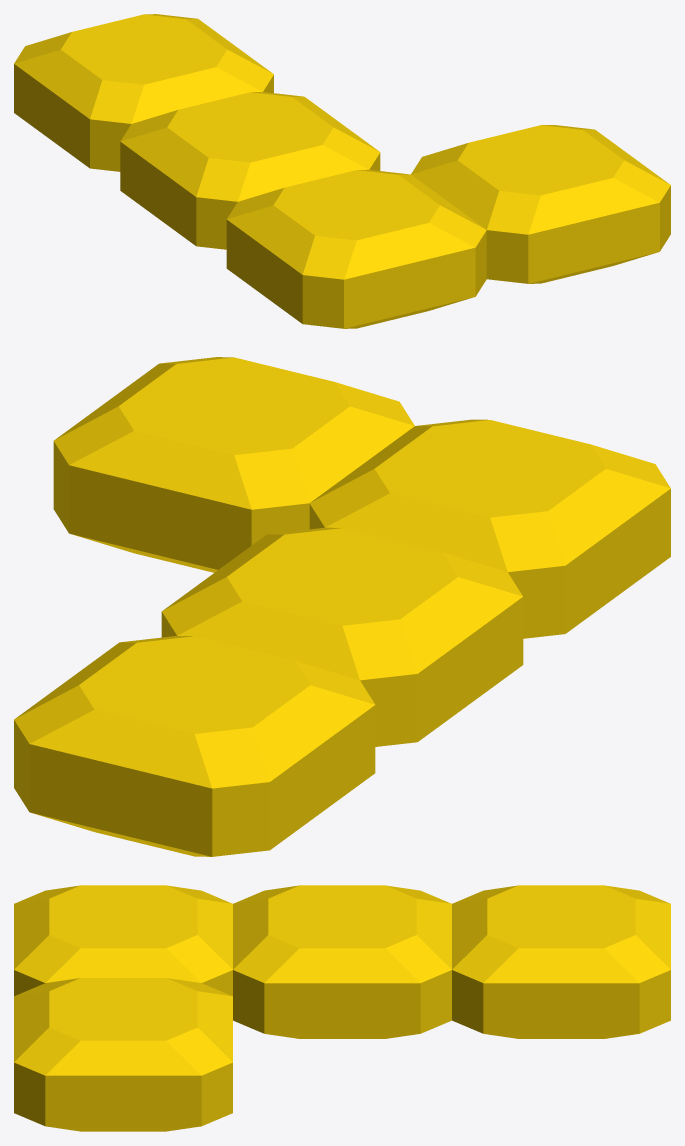
3 renders of one model, top to bottom at view 1: azimuth 30°, elevation 25°; view 2: azimuth 150°, elevation 25°; view 3: azimuth 270°, elevation 25°, orthographic. The views are drawn at different scales.
Parts seen in each view (by area): view 1: Cube.015; view 2: Cube.015; view 3: Cube.015.
Part boxes in pixels (x1,y1,x2,y2): Cube.015: (14,14,670,328); Cube.015: (14,357,670,856); Cube.015: (14,885,670,1131).
Size of the model in its own units: 1 by 0.2288 by 1.5.
1 material, 1 textured.
